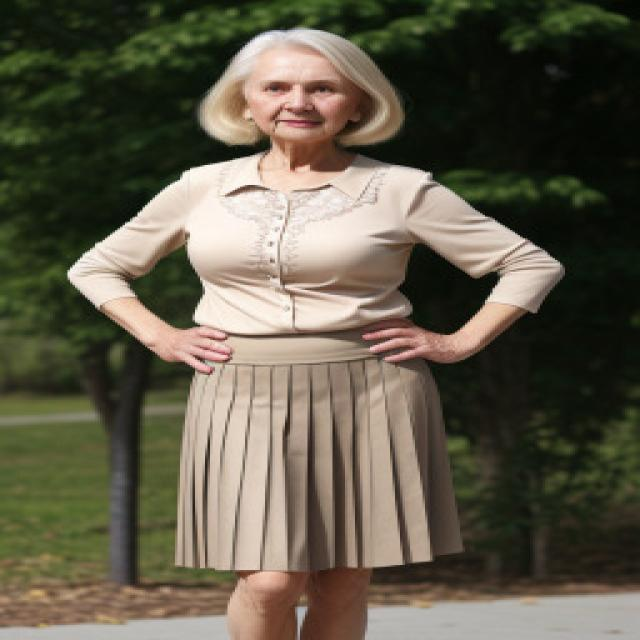Ai human 2: (62, 17, 574, 640)
